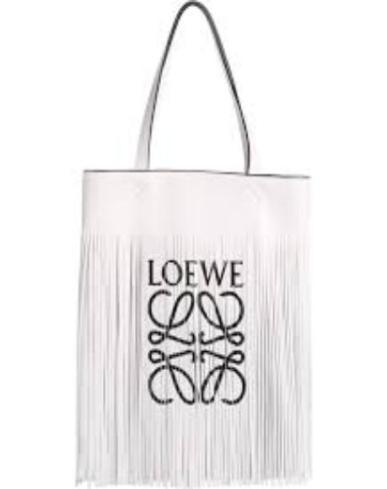LOEWE: (131, 249, 260, 422)
